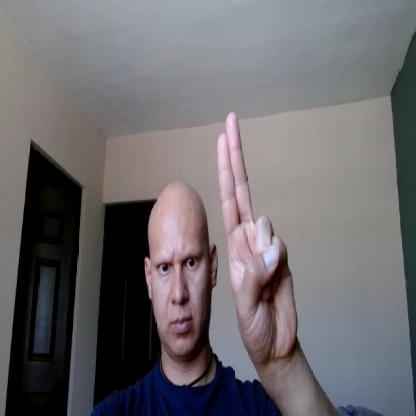U: (216, 111, 298, 360)
